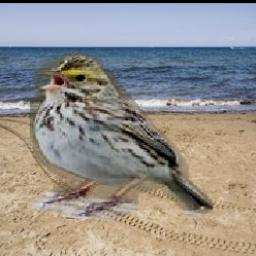Sparrow: (31, 48, 214, 220)
